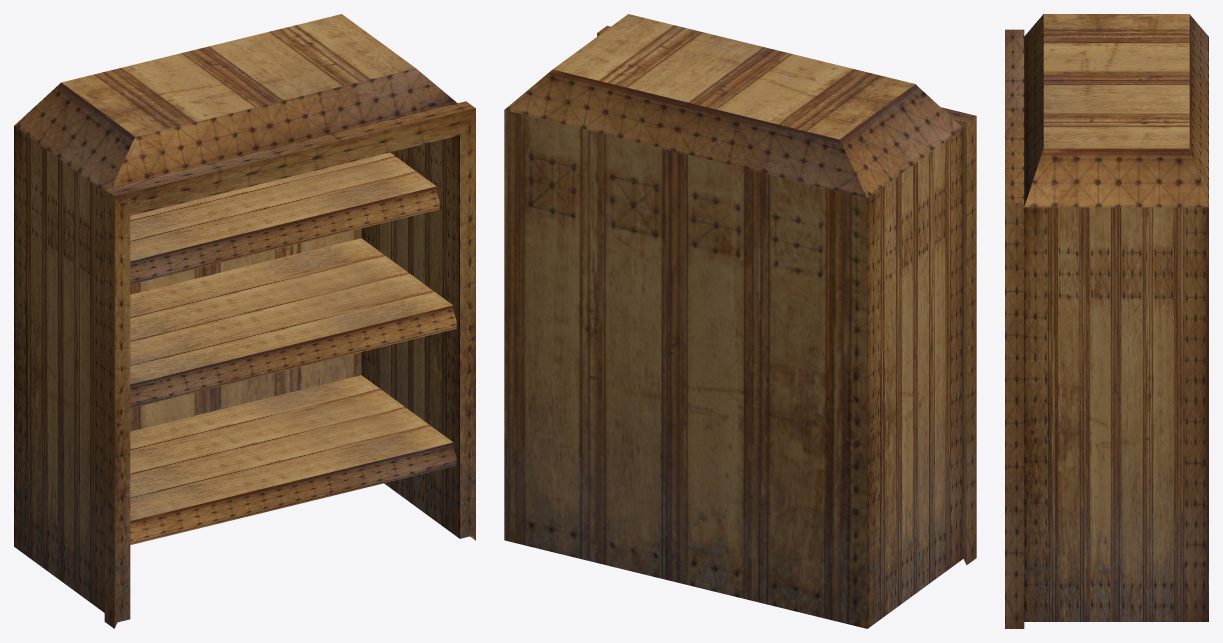
The model's file is ShelvesB.dae.
3 renders of one model, left to right at view 1: azimuth 30°, elevation 25°; view 2: azimuth 150°, elevation 25°; view 3: azimuth 270°, elevation 25°, orthographic. The views are drawn at different scales.
Parts seen in each view (by area): view 1: meshU3D; view 2: meshU3D; view 3: meshU3D.
Part boxes in pixels (bbox=[...]): meshU3D: bbox=[14, 14, 475, 628]; meshU3D: bbox=[504, 14, 976, 628]; meshU3D: bbox=[1005, 14, 1208, 628].
Size of the model in its own units: 37.23 by 46.07 by 18.47.
